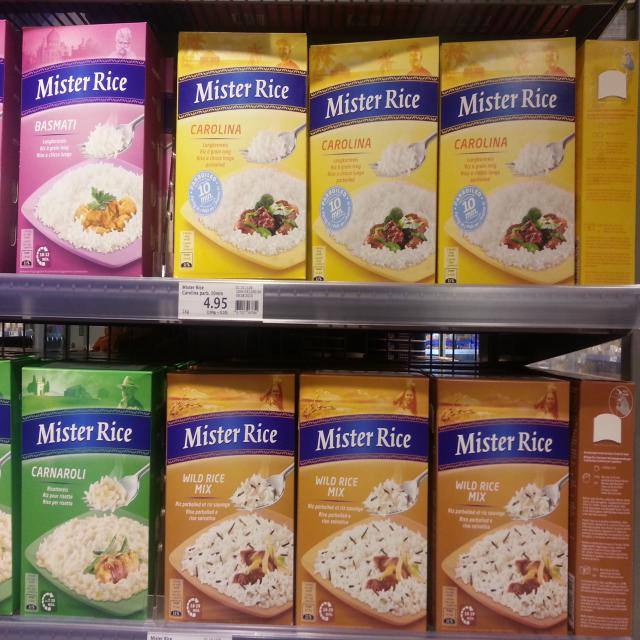Rice: (434, 378, 571, 640), (23, 361, 161, 616), (16, 23, 151, 278), (437, 41, 577, 285), (175, 32, 312, 279), (302, 369, 433, 624), (165, 370, 297, 622), (308, 33, 440, 282), (576, 377, 636, 639), (579, 35, 640, 286)
